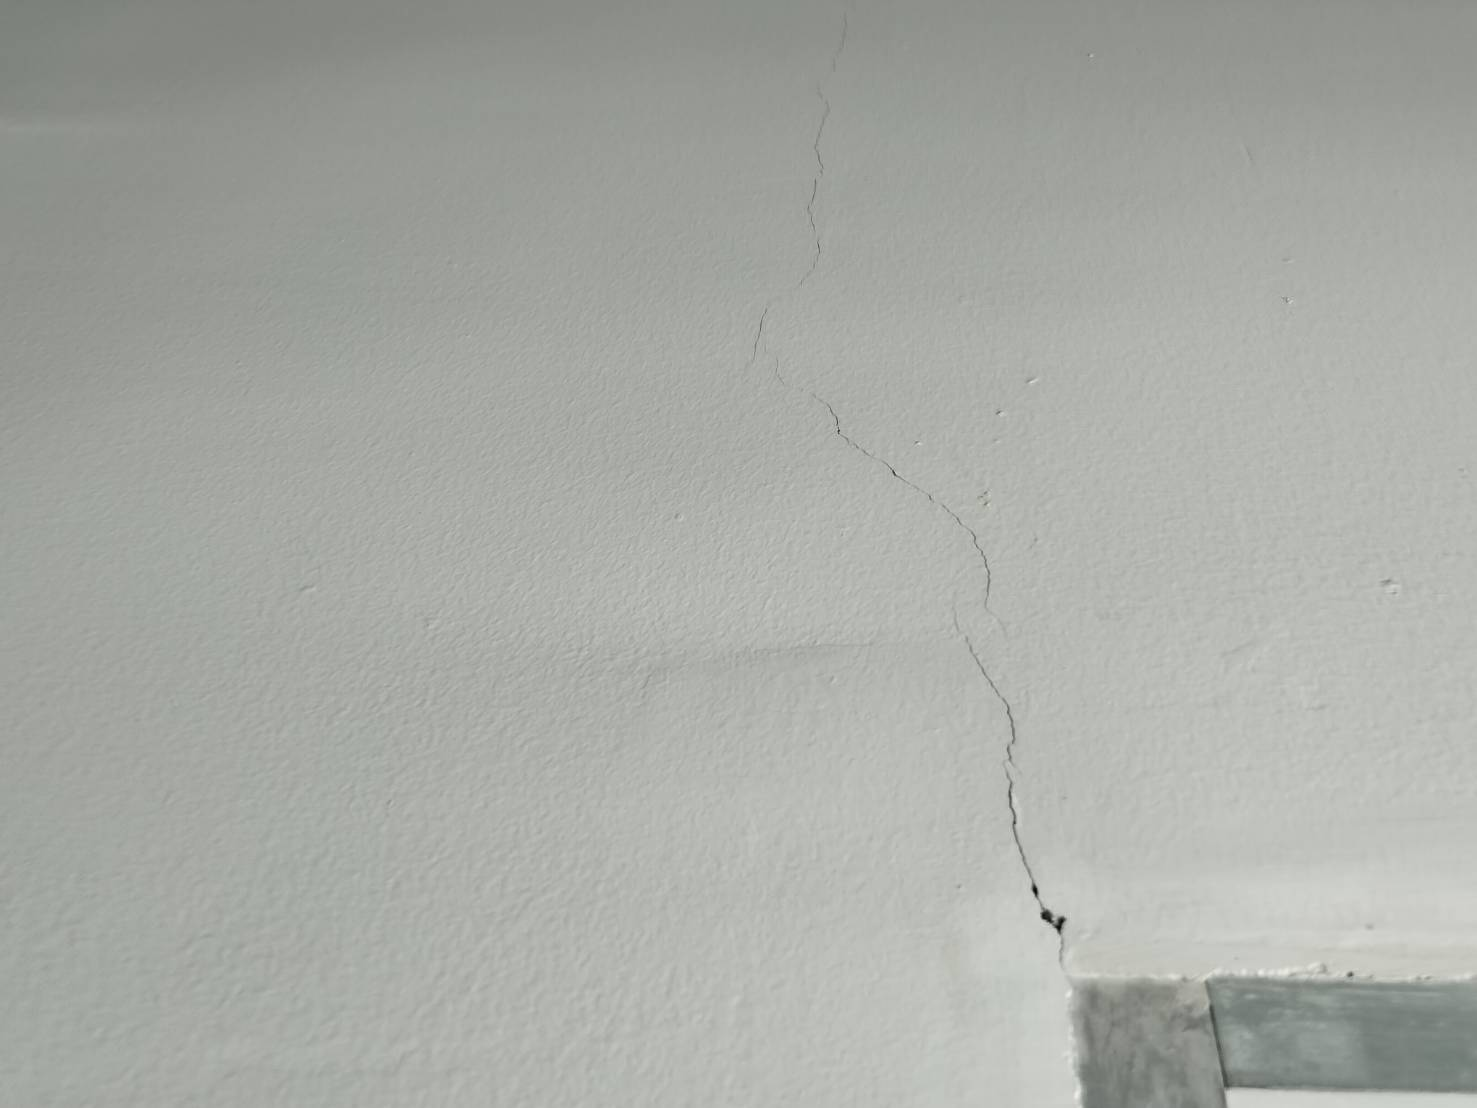Low: (719, 1, 1164, 981)
